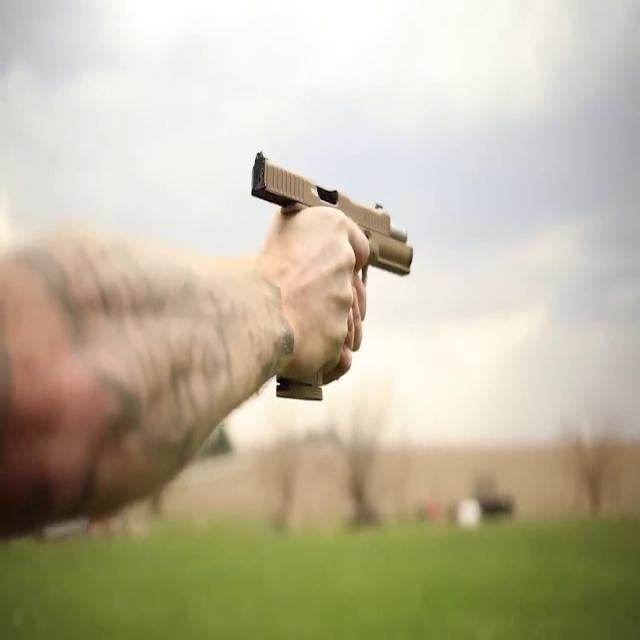Handgun: (245, 147, 418, 406)
